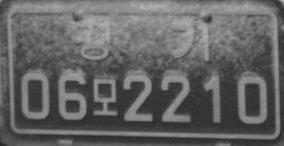0: (236, 74, 268, 126), (19, 71, 51, 121)
1: (199, 73, 226, 124)
2: (159, 73, 192, 124), (122, 73, 153, 123)
6: (56, 71, 87, 121)
경기_D: (73, 19, 211, 64)
모: (91, 77, 119, 117)
